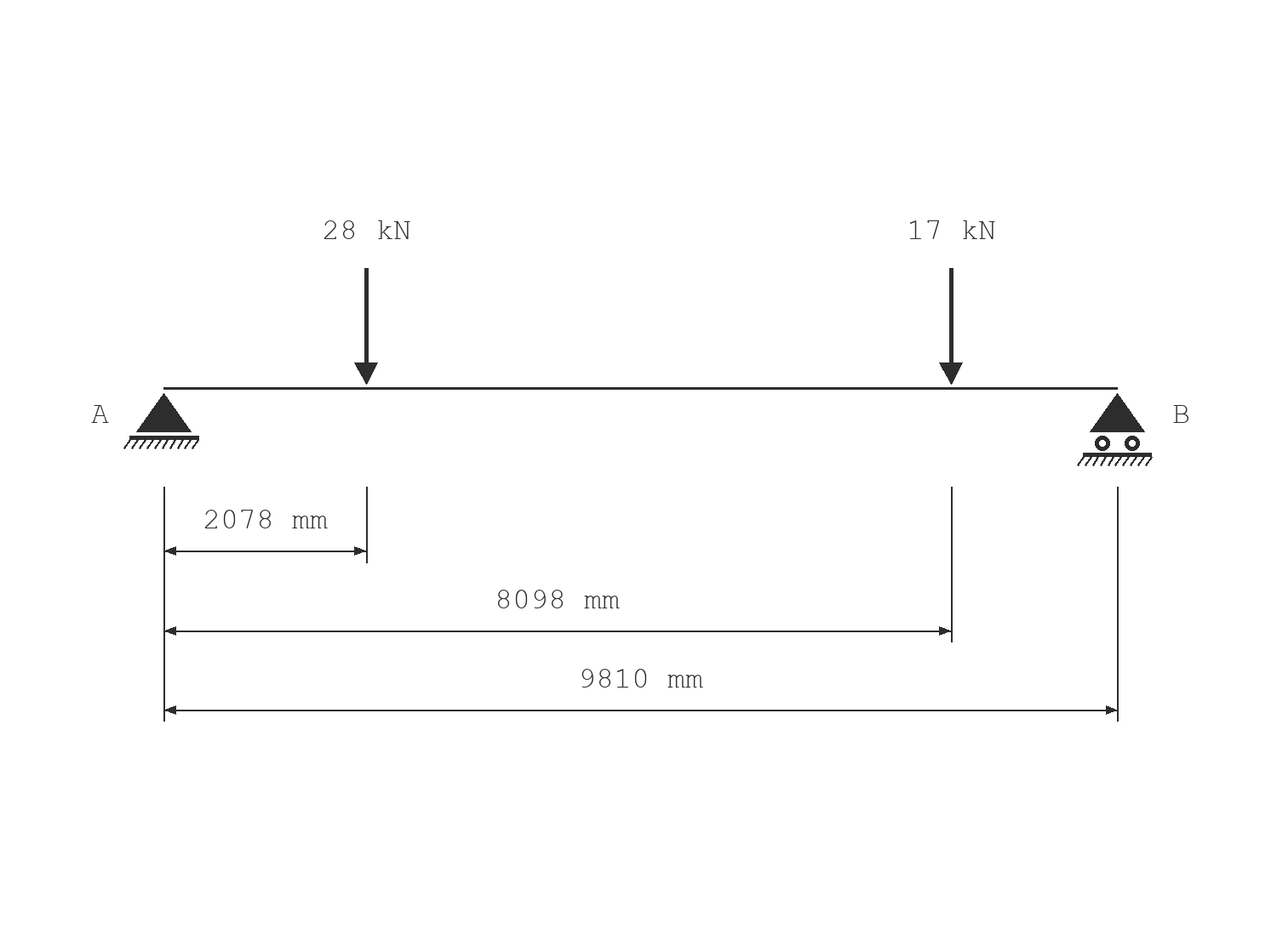pin_support: (123, 393, 199, 449)
point_load: (354, 268, 378, 385), (939, 268, 963, 385)
roller_support: (1077, 393, 1153, 466)
